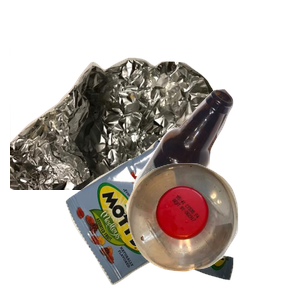glass: (130, 87, 300, 267)
metal: (10, 47, 216, 227)
plastic: (124, 161, 300, 300)
trash: (63, 137, 289, 300)
